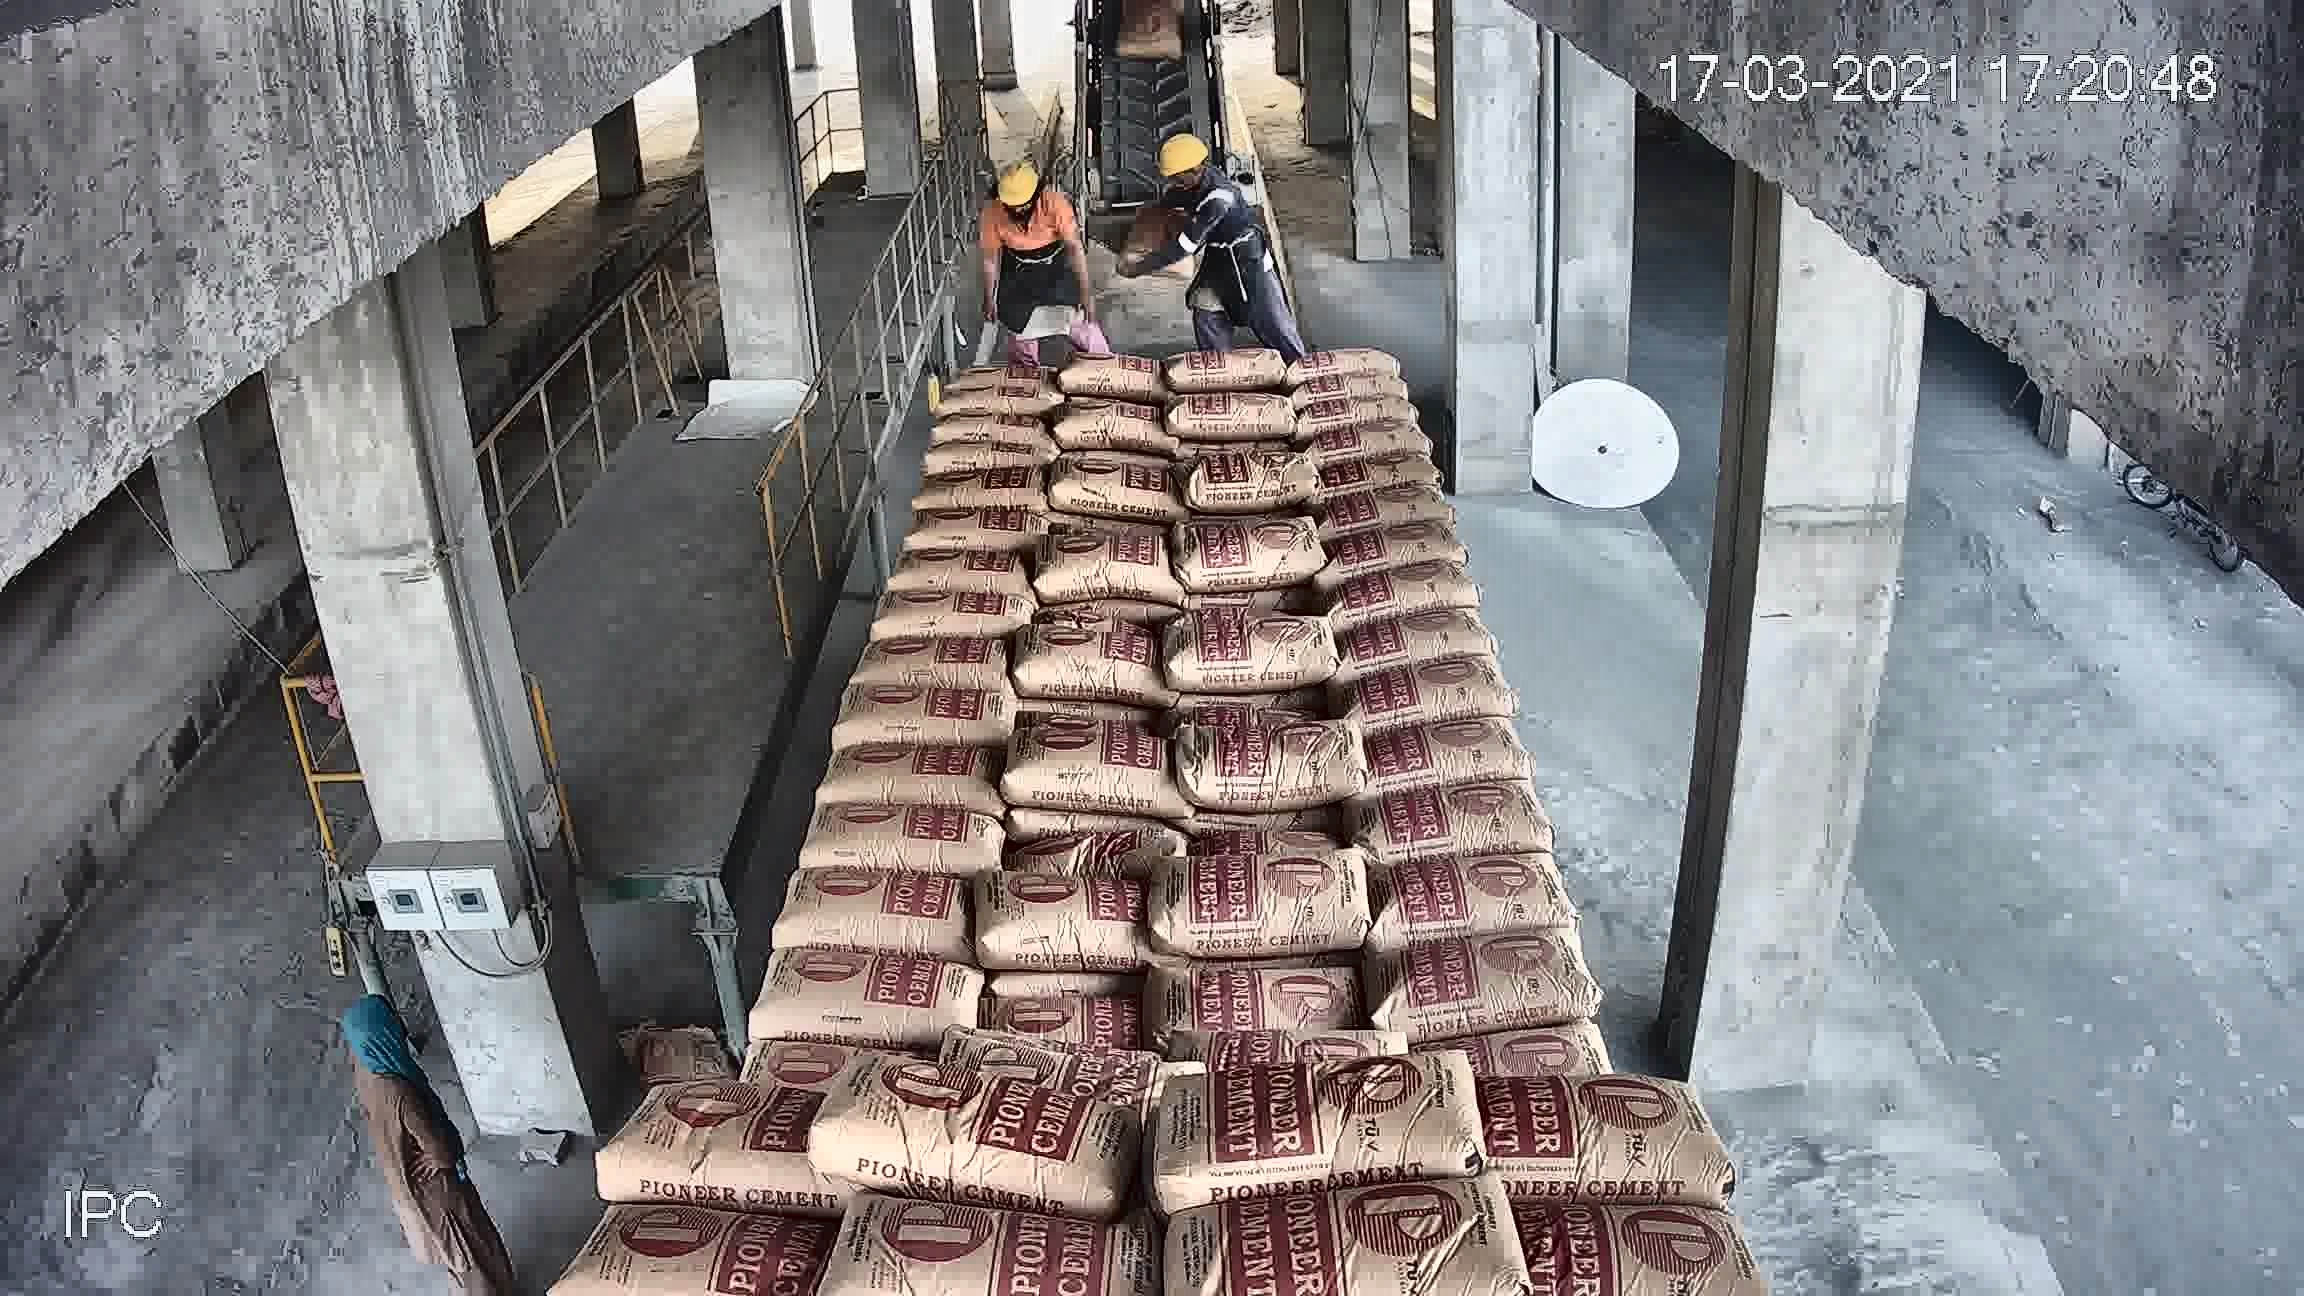bag: (1090, 462, 1214, 633), (1081, 78, 1207, 196)
bag_h: (1152, 1040, 1476, 1215), (1130, 927, 1454, 1074), (1155, 1169, 1525, 1296), (869, 923, 1135, 1081), (1445, 1065, 1733, 1207), (1374, 965, 1711, 1086), (847, 817, 1166, 943), (809, 1067, 1109, 1190), (1150, 824, 1421, 954), (638, 932, 867, 1084), (842, 1169, 1171, 1272), (1397, 840, 1625, 959), (557, 1179, 786, 1294), (1521, 1196, 1782, 1296), (590, 1078, 796, 1203), (668, 850, 881, 957), (1342, 646, 1521, 729), (1388, 801, 1608, 867), (1021, 647, 1174, 737), (728, 809, 908, 885), (1063, 707, 1211, 798), (1359, 718, 1540, 791), (967, 805, 1185, 862), (1317, 612, 1497, 680), (1331, 554, 1487, 631), (1315, 473, 1464, 535), (1378, 775, 1568, 823), (1355, 508, 1470, 578), (815, 752, 919, 823), (1334, 435, 1453, 489), (824, 680, 915, 742), (820, 731, 934, 779), (1351, 404, 1438, 457), (1356, 388, 1431, 434), (1310, 313, 1388, 354), (1353, 340, 1399, 381), (1340, 373, 1415, 397)
belt: (989, 9, 1296, 510)
